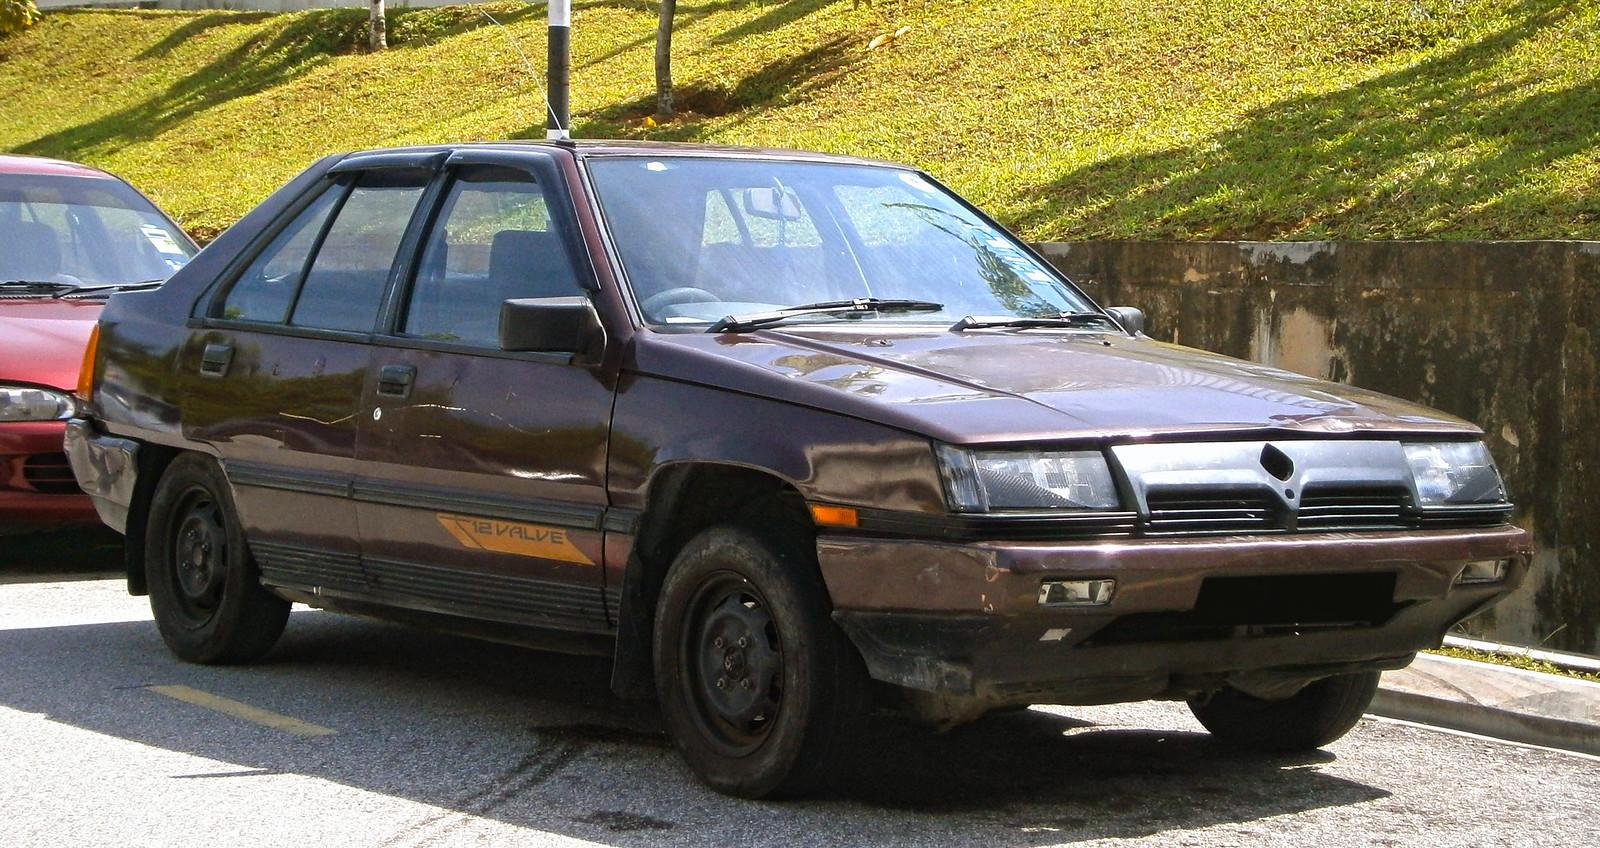doorouter-dent: (371, 364, 616, 536), (197, 340, 350, 562)
fender-dent: (685, 386, 947, 538)
